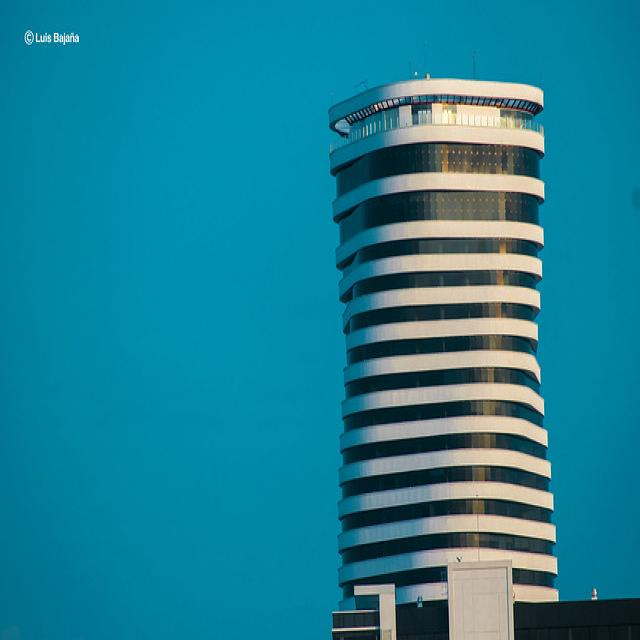Normal_building: (320, 73, 562, 640)
